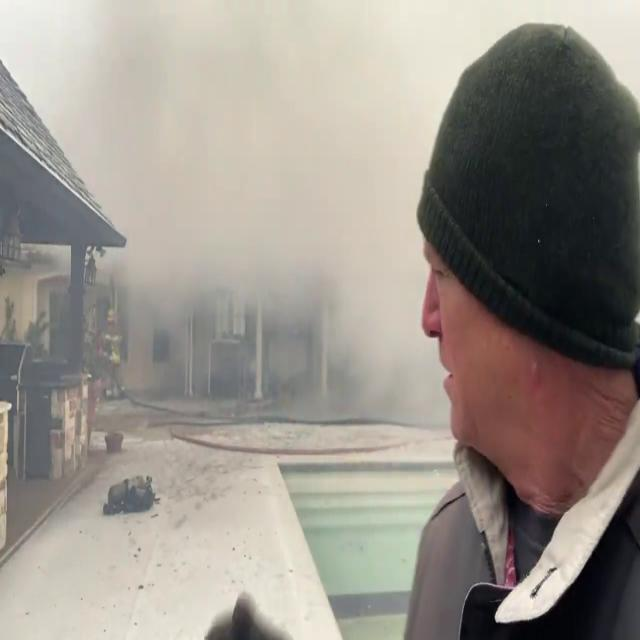Smoke: (35, 0, 445, 467)
